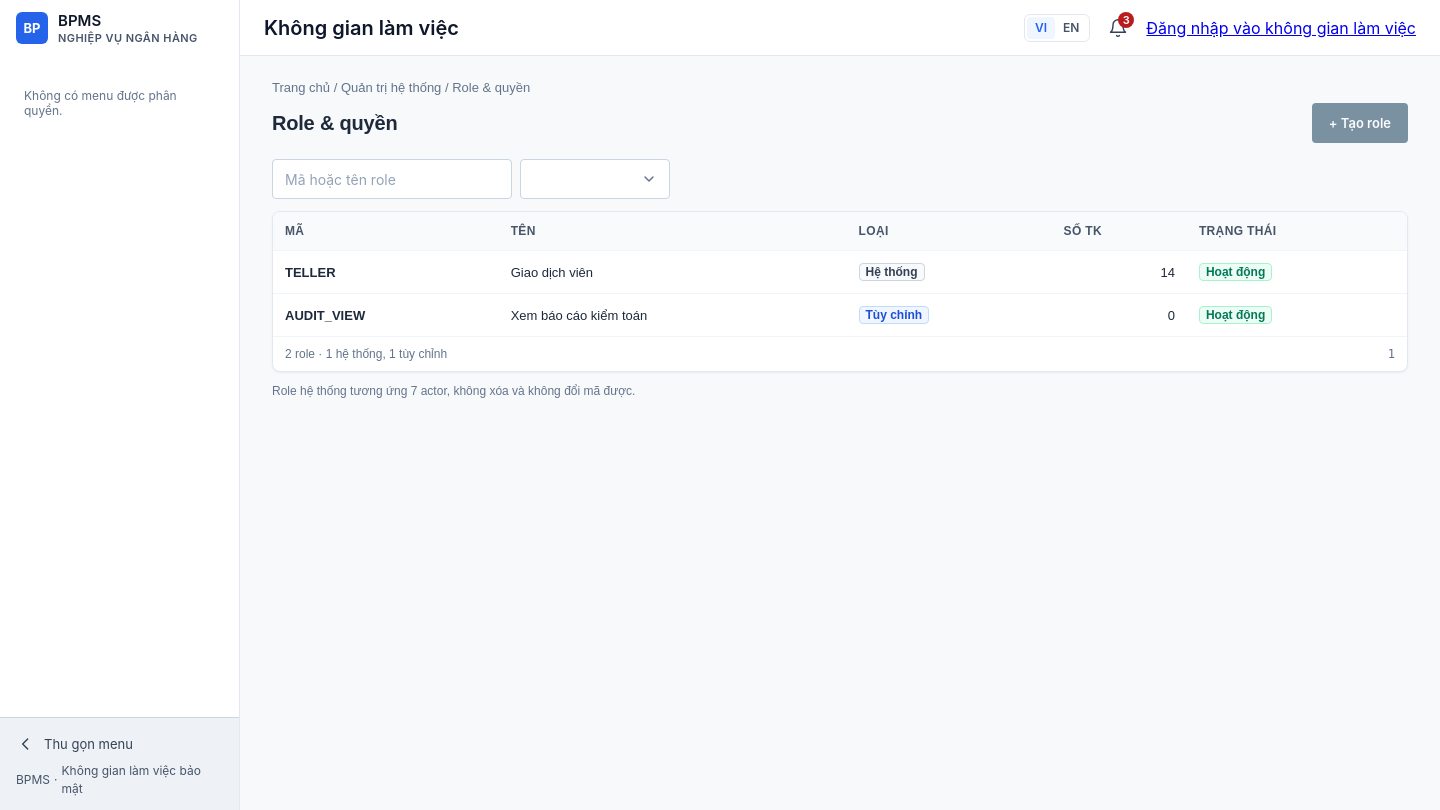
Test: RoleListComponent › opens the drawer and shows granted permissions only
Click the row "TELLER Giao dịch viên Hệ thống 14 Hoạt động" at (840, 272), box [273, 250, 1407, 294]
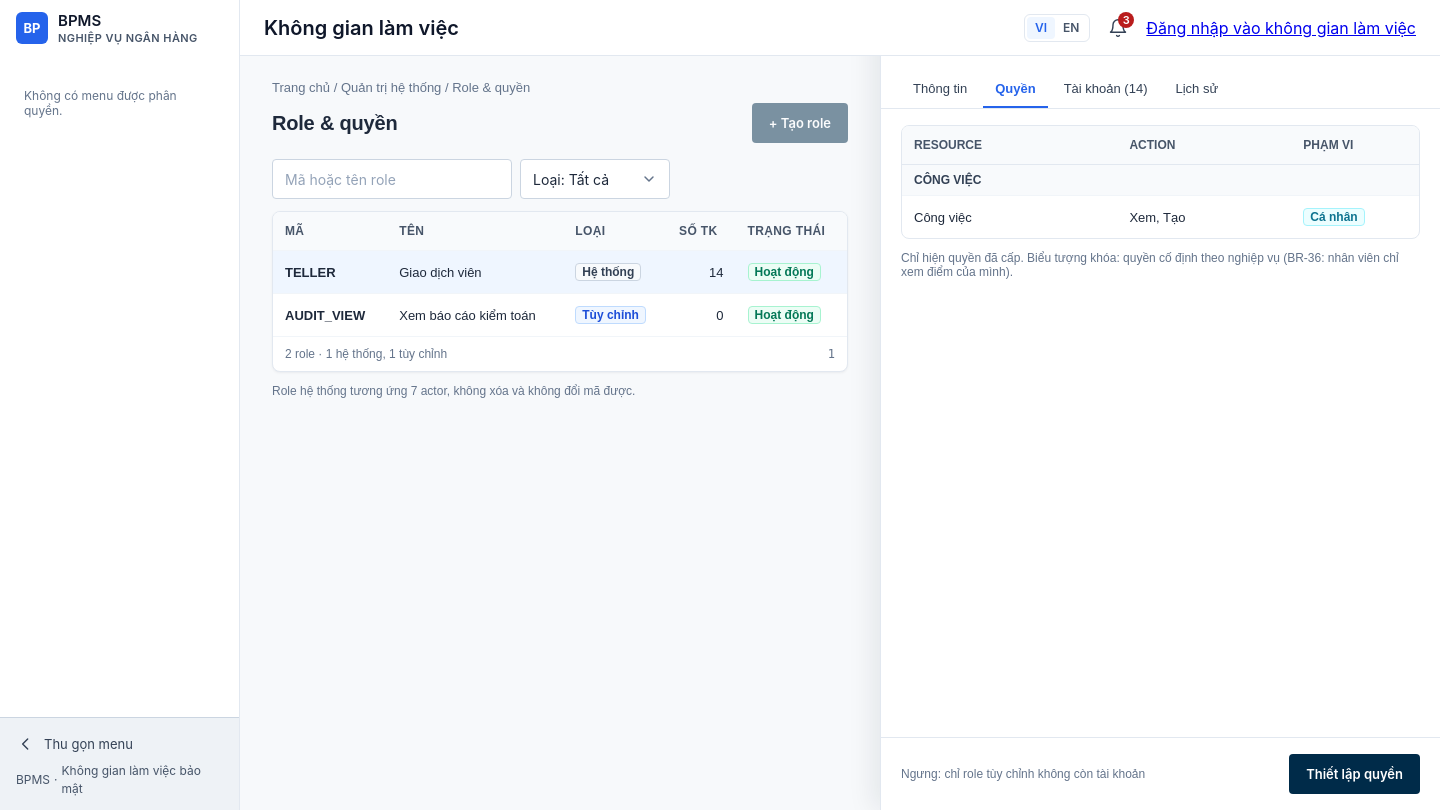
expect the element showing "Công việc Xem, Tạo Cá nhân" is shown: met, box [902, 195, 1419, 238]
